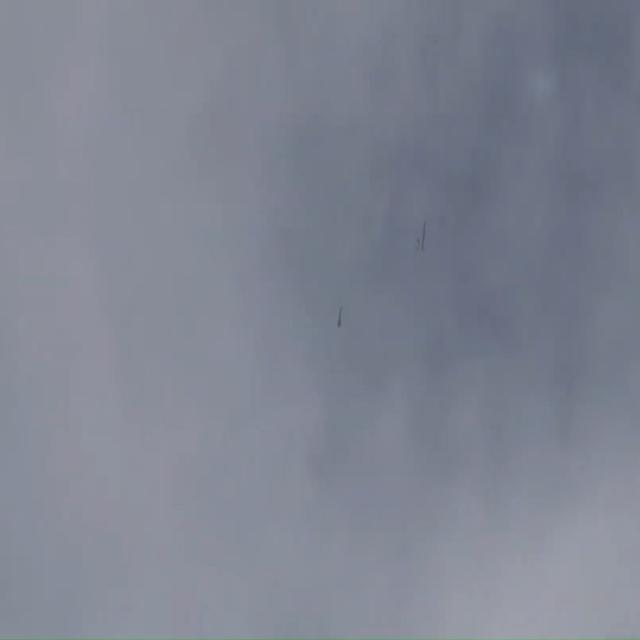Rocket: (338, 306, 342, 328)
